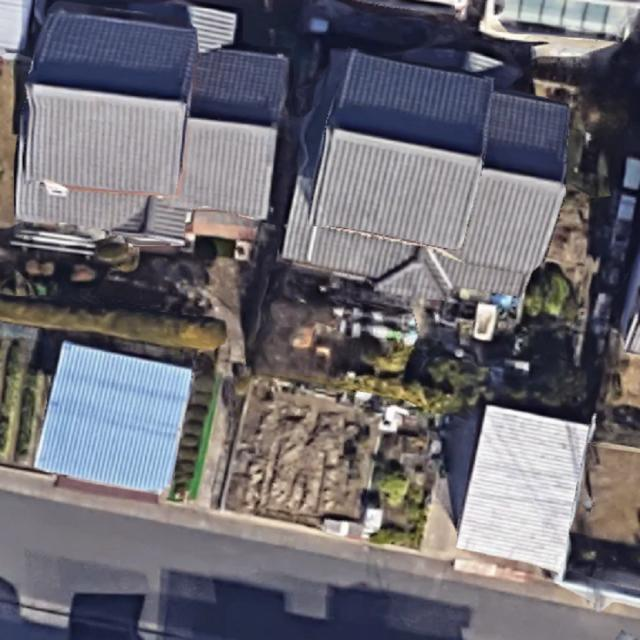Batiment: (282, 51, 567, 299), (16, 10, 286, 237), (34, 341, 192, 492), (457, 405, 588, 572)
